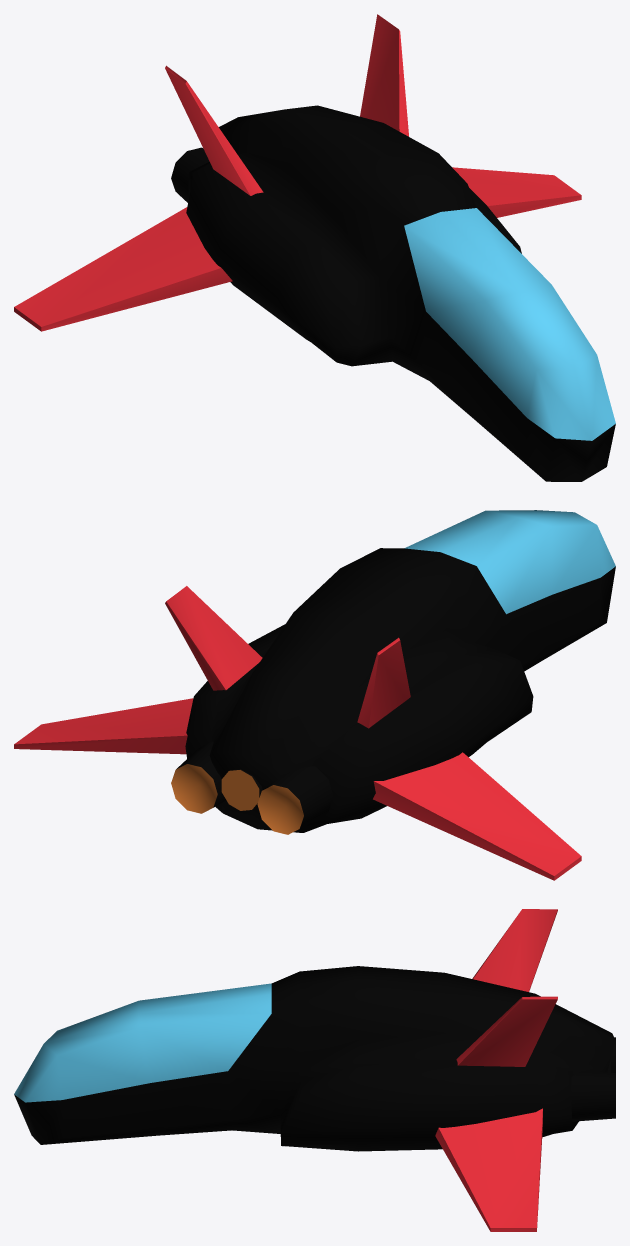
Rendered from Spaceship 1.fbx.
The picture shows the model from 3 angles, top to bottom: view 1: azimuth 30°, elevation 25°; view 2: azimuth 150°, elevation 25°; view 3: azimuth 270°, elevation 25°; orthographic projection. The views are drawn at different scales.
Parts seen in each view (by area): view 1: Spaceship7; view 2: Spaceship7; view 3: Spaceship7.
Boxes of the visible parts, x1,y1,x2,y2 form: Spaceship7: (14,14,615,481); Spaceship7: (14,510,615,880); Spaceship7: (14,909,615,1231).
Bounding box in the file's own units: 6507 × 2475 × 7398.
